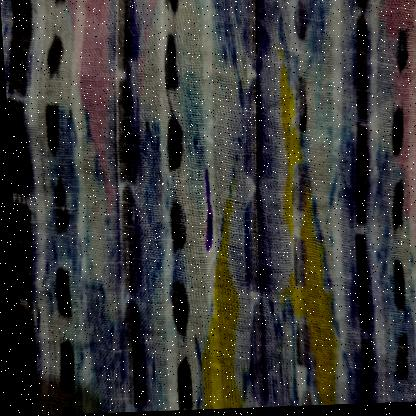spot: (192, 171, 217, 255)
